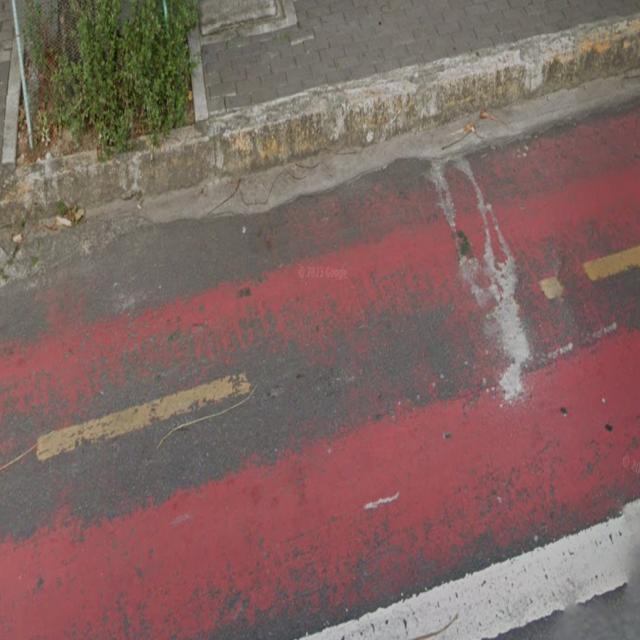Buraco: (461, 257, 542, 417)
